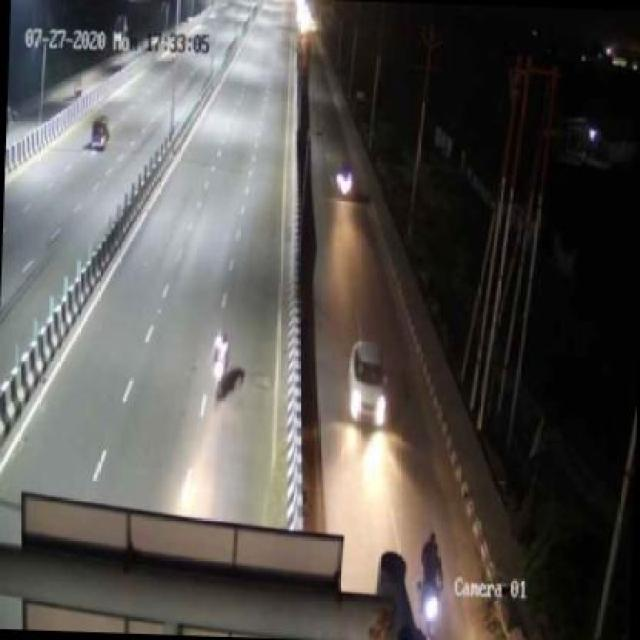car: (343, 338, 411, 432), (328, 156, 360, 202)
